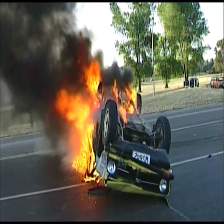fire_h: (56, 54, 106, 175), (111, 79, 137, 113)
fire_l: (84, 170, 101, 183), (116, 106, 127, 123)
